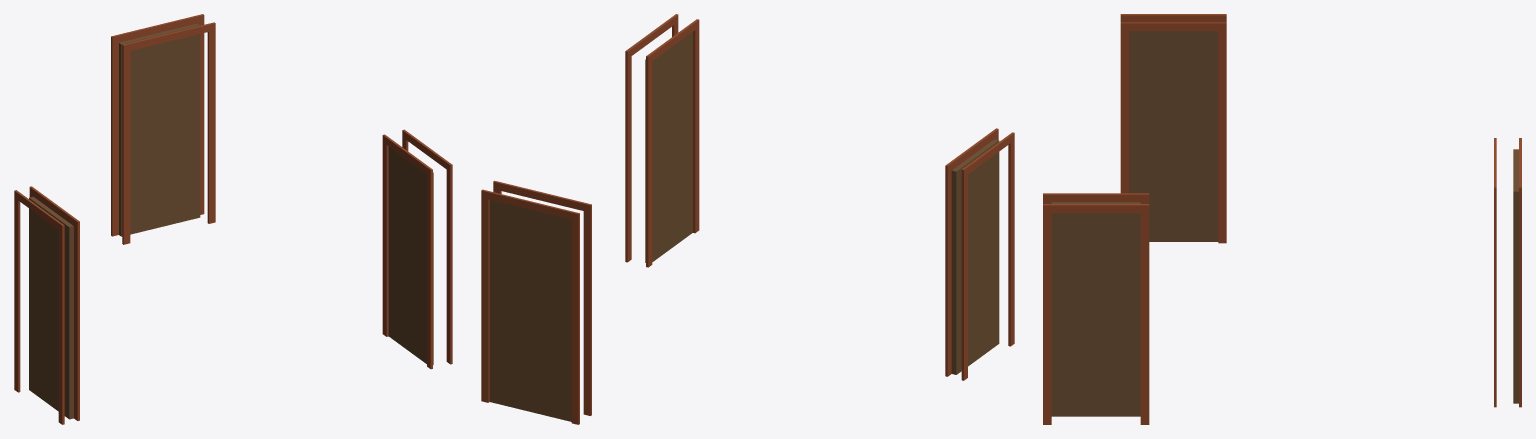
File: PROJETO BIM 12 ANDARES_Cobertura_IfcDoor.dae
3 views of the same model, side by side, from view 1: azimuth 30°, elevation 25°; view 2: azimuth 150°, elevation 25°; view 3: azimuth 270°, elevation 25° (orthographic). The views are drawn at different scales.
Parts seen in each view (by area): view 1: 0GrGU7b458xBIgcOSQjhVF, 0GrGU7b458xBIgcOSQjh02, 0GrGU7b458xBIgcOSQjh0l; view 2: 0GrGU7b458xBIgcOSQjhVF, 0GrGU7b458xBIgcOSQjh02, 0GrGU7b458xBIgcOSQjh0l; view 3: 0GrGU7b458xBIgcOSQjh02, 0GrGU7b458xBIgcOSQjh0l, 0GrGU7b458xBIgcOSQjhVF.
Part boxes in pixels (bbox=[...]): 0GrGU7b458xBIgcOSQjhVF: bbox=[111, 14, 215, 244]; 0GrGU7b458xBIgcOSQjh02: bbox=[382, 129, 452, 369]; 0GrGU7b458xBIgcOSQjh0l: bbox=[14, 186, 79, 424]; 0GrGU7b458xBIgcOSQjhVF: bbox=[481, 180, 591, 424]; 0GrGU7b458xBIgcOSQjh02: bbox=[625, 14, 699, 267]; 0GrGU7b458xBIgcOSQjh0l: bbox=[945, 128, 1014, 380]; 0GrGU7b458xBIgcOSQjh02: bbox=[1043, 193, 1149, 424]; 0GrGU7b458xBIgcOSQjh0l: bbox=[1120, 14, 1226, 243]; 0GrGU7b458xBIgcOSQjhVF: bbox=[1494, 138, 1521, 407].
Size of the model in its own units: 4.06 by 4.3 by 2.18.
